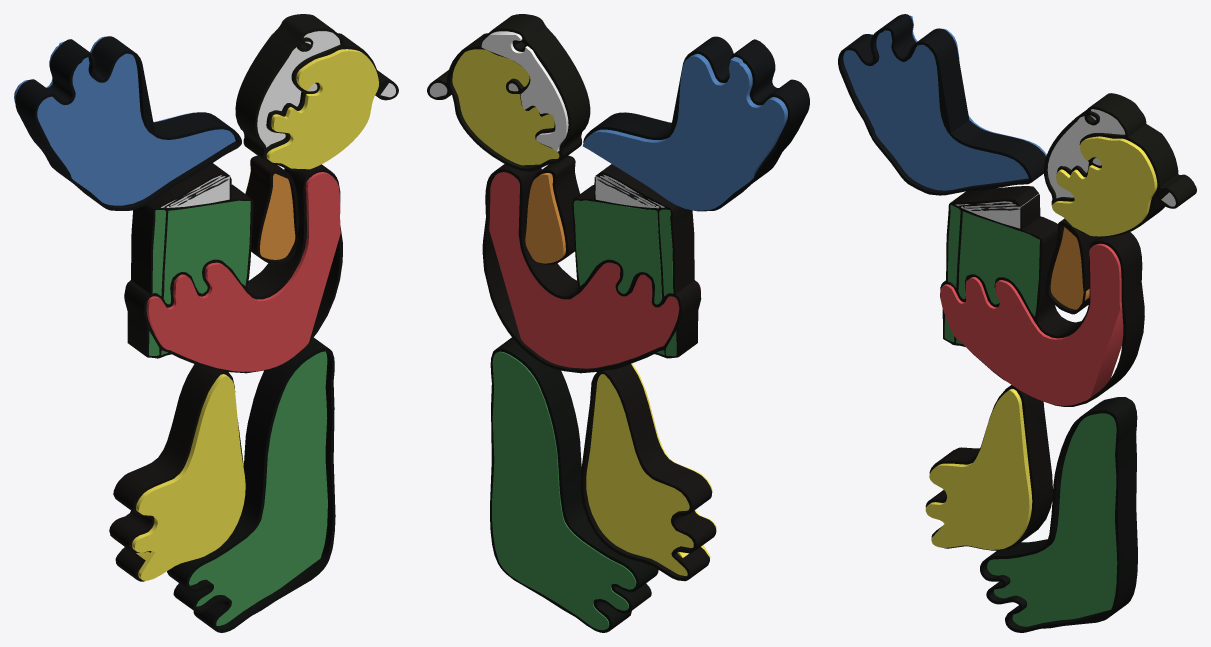
Rendered from lorey.glb.
The picture shows the model from 3 angles, left to right: view 1: azimuth 30°, elevation 25°; view 2: azimuth 150°, elevation 25°; view 3: azimuth 330°, elevation 25°; orthographic projection. The views are drawn at different scales.
Visible parts, largest first — view 1: Shape 27, Shape 25, Shape 2, Shape 4, Shape 0, Shape 1, Shape 32, Shape 3, Shape 31, Shape 5, Shape 29, Shape 28 (+3 smaller); view 2: Shape 25, Shape 2, Shape 4, Shape 27, Shape 0, Shape 1, Shape 32, Shape 3, Shape 31, Shape 5, Shape 29, Shape 35 (+3 smaller); view 3: Shape 27, Shape 2, Shape 25, Shape 4, Shape 0, Shape 3, Shape 1, Shape 32, Shape 5, Shape 31, Shape 29, Shape 35 (+3 smaller).
Boxes of the visible parts, left/top/right/bottom form: Shape 27: left=146, top=172, right=340, bottom=371; Shape 25: left=109, top=163, right=342, bottom=581; Shape 2: left=189, top=351, right=327, bottom=625; Shape 4: left=14, top=36, right=235, bottom=205; Shape 0: left=132, top=374, right=245, bottom=580; Shape 1: left=167, top=337, right=335, bottom=632; Shape 32: left=266, top=49, right=378, bottom=169; Shape 3: left=15, top=36, right=241, bottom=210; Shape 31: left=235, top=14, right=398, bottom=171; Shape 5: left=163, top=200, right=250, bottom=304; Shape 29: left=236, top=19, right=340, bottom=147; Shape 28: left=245, top=155, right=298, bottom=264; Shape 25: left=482, top=164, right=716, bottom=581; Shape 2: left=492, top=351, right=636, bottom=630; Shape 4: left=583, top=53, right=787, bottom=210; Shape 27: left=489, top=168, right=700, bottom=368; Shape 0: left=586, top=363, right=716, bottom=576; Shape 1: left=490, top=337, right=658, bottom=632; Shape 32: left=452, top=49, right=559, bottom=165; Shape 3: left=583, top=36, right=809, bottom=211; Shape 31: left=427, top=14, right=590, bottom=171; Shape 5: left=573, top=200, right=661, bottom=304; Shape 29: left=481, top=31, right=568, bottom=151; Shape 35: left=525, top=173, right=565, bottom=263; Shape 27: left=940, top=243, right=1123, bottom=405; Shape 2: left=987, top=413, right=1117, bottom=626; Shape 25: left=925, top=186, right=1144, bottom=550; Shape 4: left=843, top=15, right=1046, bottom=190; Shape 0: left=925, top=389, right=1032, bottom=549; Shape 3: left=838, top=14, right=1046, bottom=195; Shape 1: left=980, top=397, right=1137, bottom=632; Shape 32: left=1052, top=136, right=1157, bottom=236; Shape 5: left=958, top=211, right=1039, bottom=316; Shape 31: left=1044, top=93, right=1196, bottom=236; Shape 29: left=1047, top=106, right=1144, bottom=198; Shape 35: left=1050, top=227, right=1089, bottom=309.
Size of the model in its own units: 1.11 by 1.79 by 0.1392.
